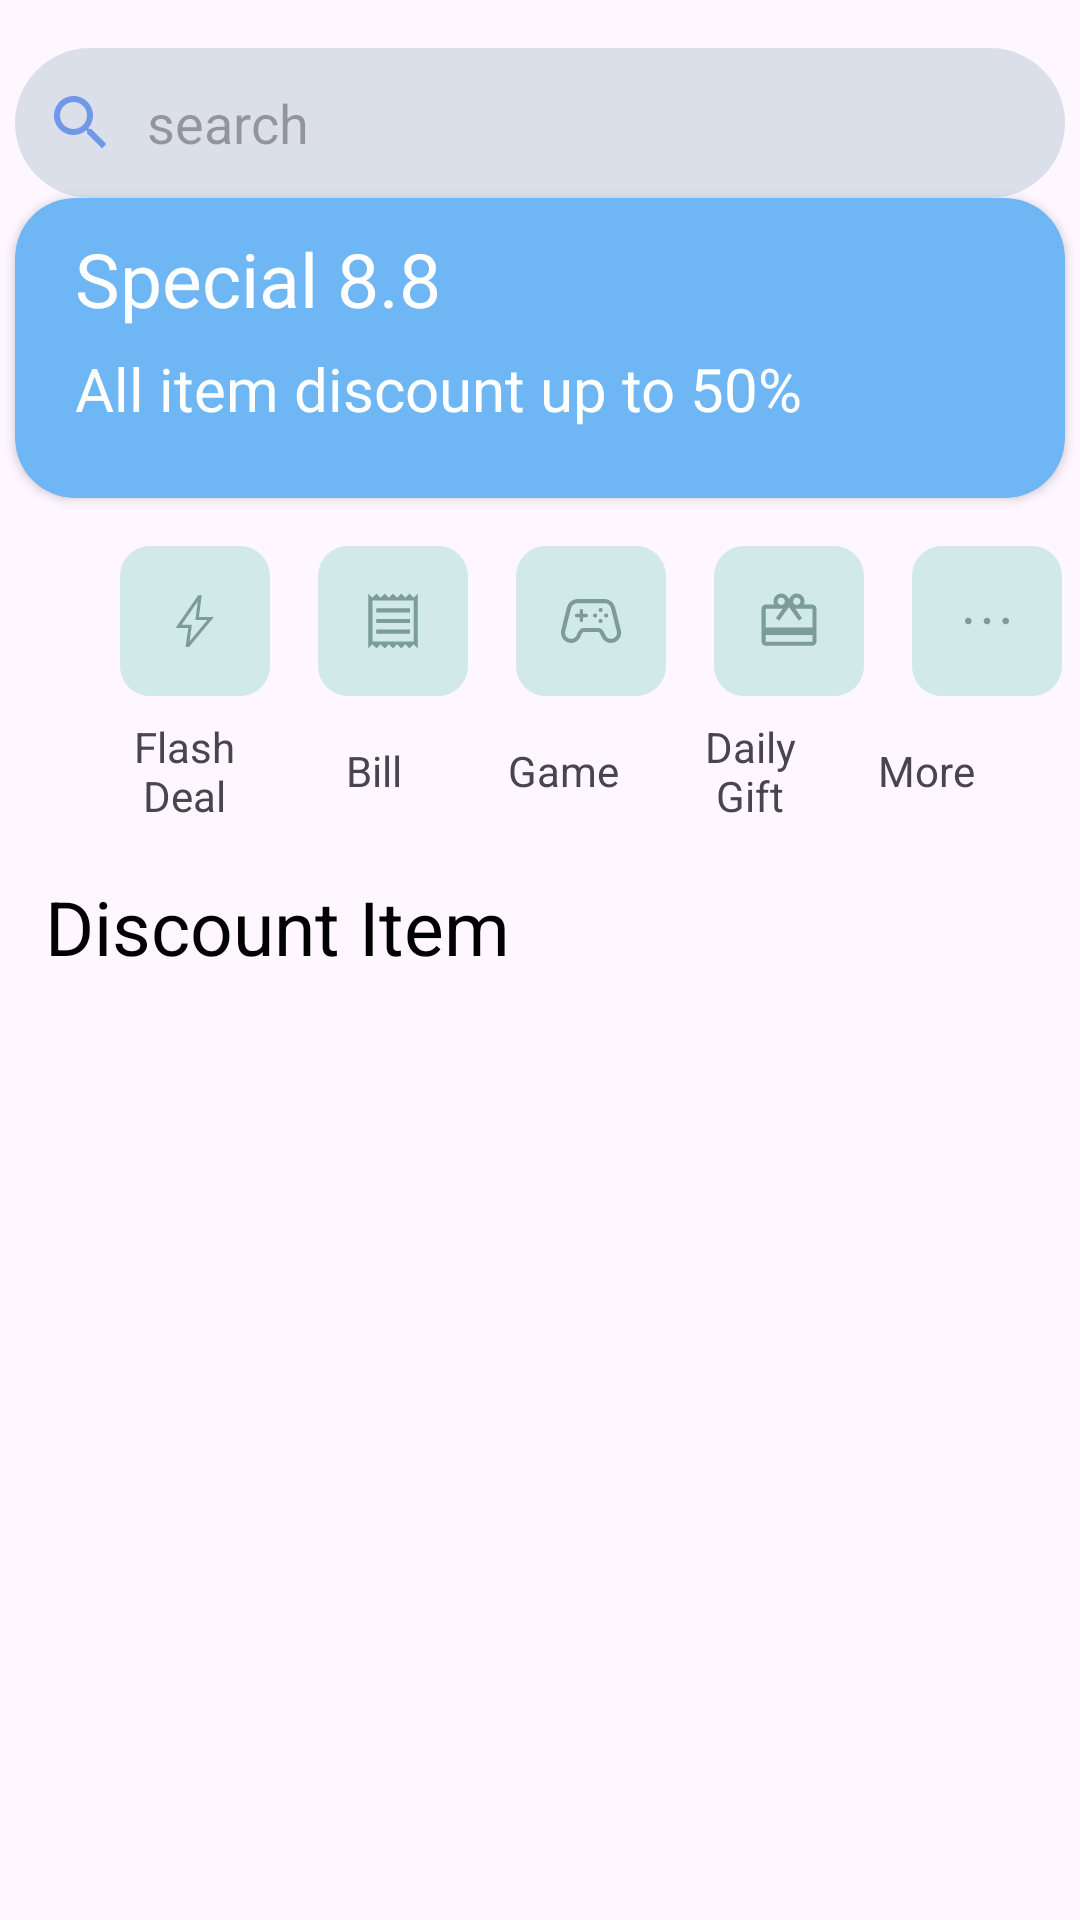

Screen size 1080x1920. Icon name, then its center in pixels as (x=x, y=y):
receipt: (x=393, y=621)
